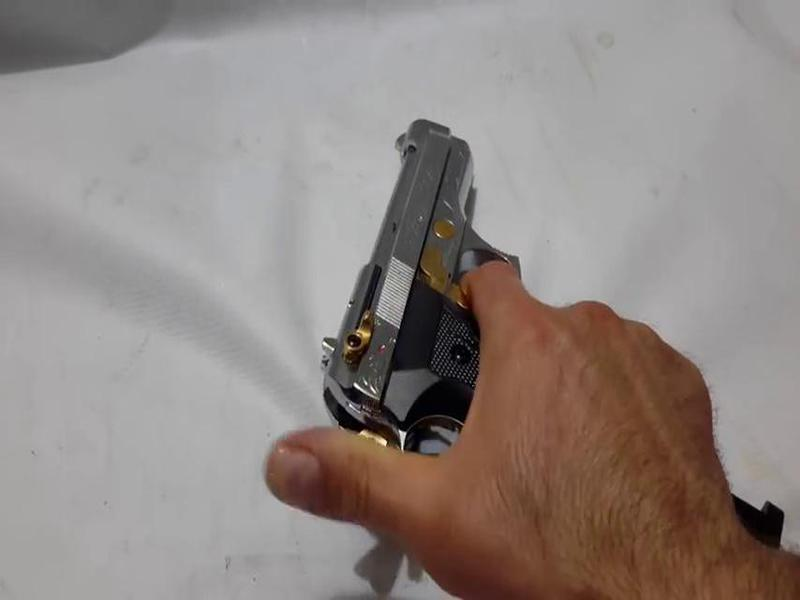Pistola: (315, 96, 583, 494)
